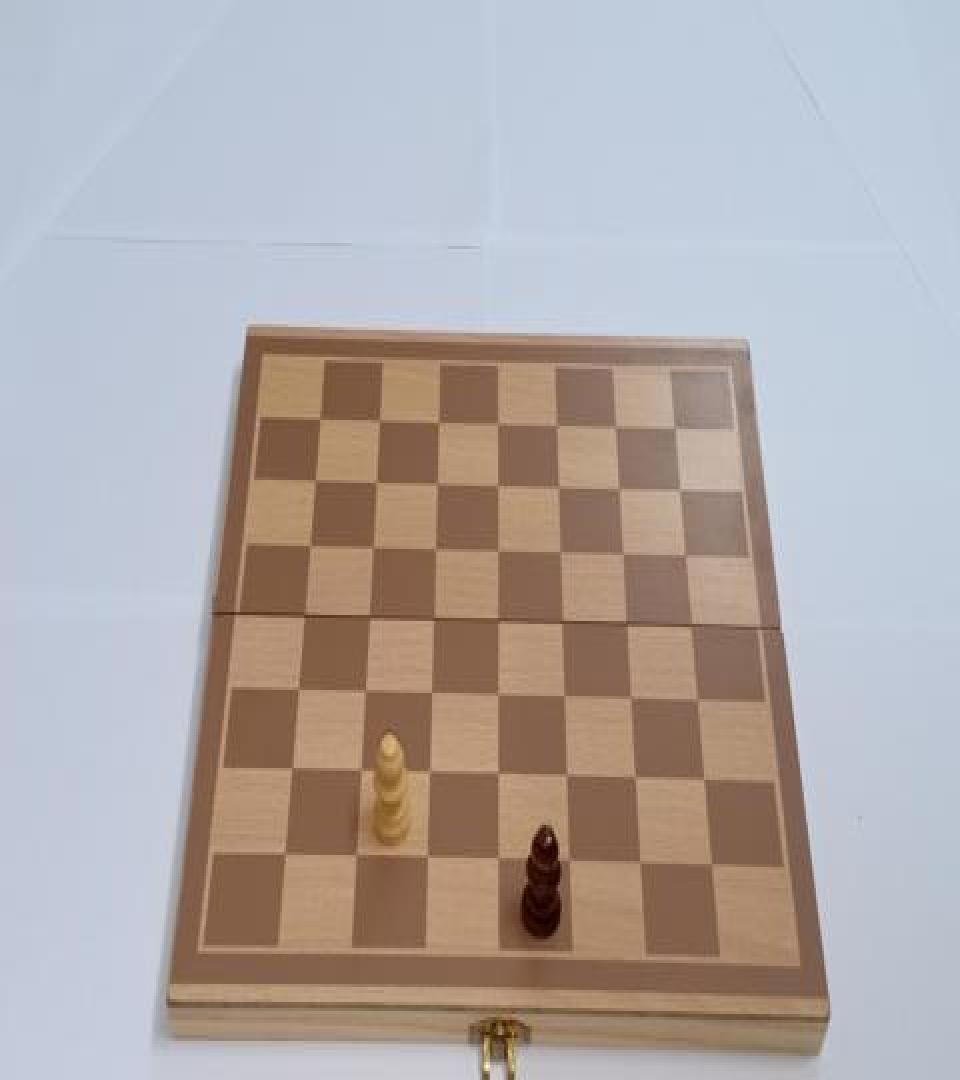xcorner: (352, 760, 370, 788), (429, 472, 447, 500), (490, 412, 508, 440), (549, 412, 567, 440), (672, 478, 690, 506), (312, 408, 330, 435), (307, 470, 325, 497), (296, 606, 314, 633), (283, 759, 301, 786), (276, 844, 294, 871), (368, 471, 386, 498), (364, 537, 382, 564), (356, 681, 374, 708), (347, 846, 365, 873), (431, 411, 449, 438), (427, 538, 445, 565), (425, 609, 443, 636), (423, 683, 441, 710), (421, 762, 439, 789), (490, 474, 508, 501), (490, 540, 508, 567), (490, 610, 508, 637), (490, 684, 508, 711), (490, 849, 508, 876), (554, 612, 572, 639), (559, 765, 577, 792), (561, 851, 579, 878), (608, 414, 626, 441), (612, 477, 630, 504), (615, 543, 633, 570), (623, 687, 641, 714), (628, 766, 646, 793), (632, 852, 650, 879), (667, 415, 685, 442), (678, 545, 696, 572), (684, 615, 702, 642), (690, 689, 708, 716), (696, 768, 714, 795), (302, 536, 320, 562), (290, 680, 308, 706), (372, 410, 390, 436), (361, 608, 379, 634), (419, 848, 437, 874), (490, 764, 508, 790), (551, 476, 569, 502), (553, 542, 571, 568), (557, 686, 575, 712), (619, 614, 637, 640), (704, 854, 722, 880)
